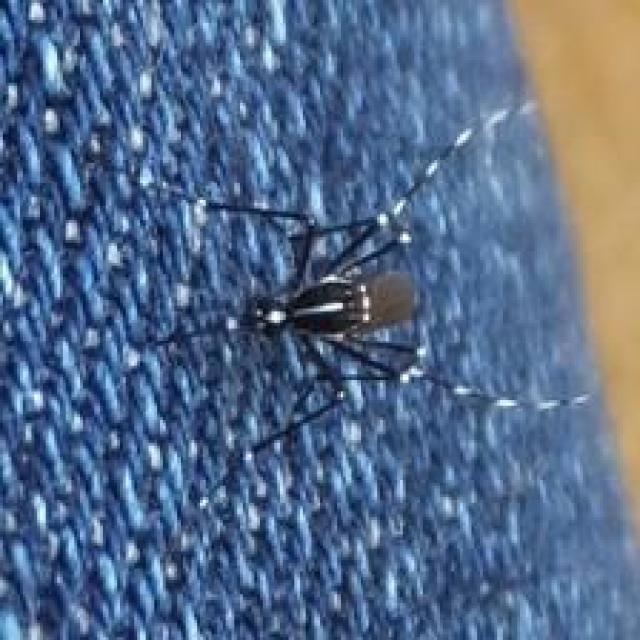Aedes albopictus: (143, 104, 591, 467)
